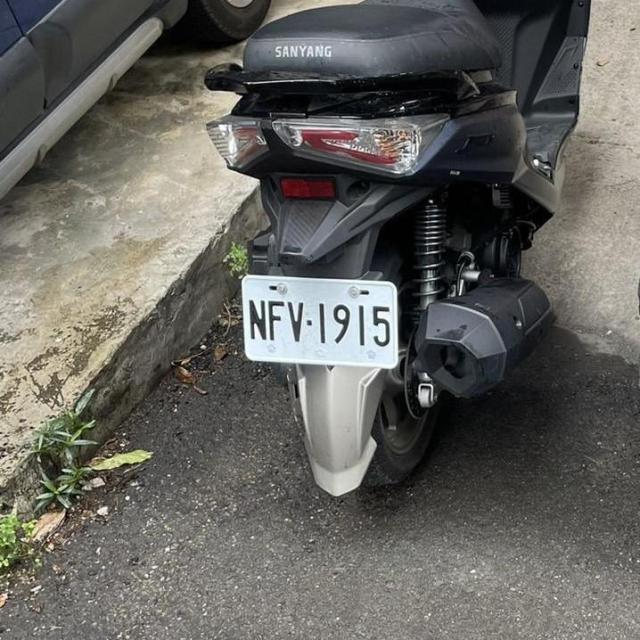W: (237, 268, 405, 374)
